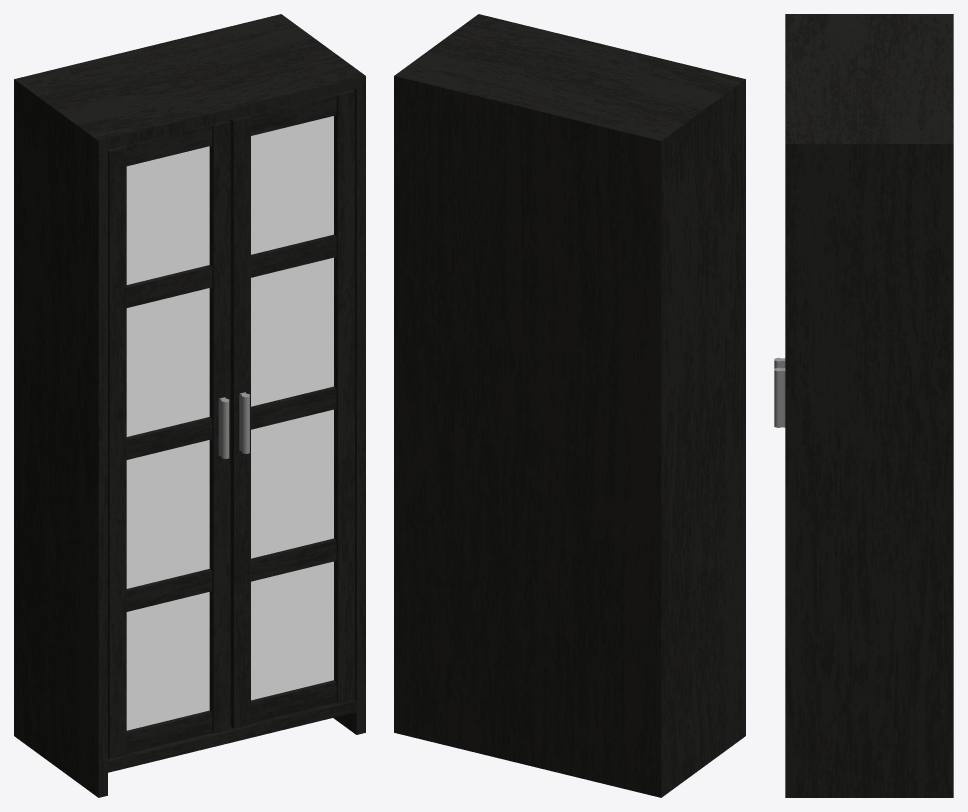
Rendered from cupboard_020.fbx.
3 views of the same model, side by side, from view 1: azimuth 30°, elevation 25°; view 2: azimuth 150°, elevation 25°; view 3: azimuth 270°, elevation 25° (orthographic).
Parts seen in each view (by area): view 1: cupboard_020; view 2: cupboard_020; view 3: cupboard_020.
Boxes of the visible parts, box(x1,y1,x2,y2) form: cupboard_020: box(14, 14, 365, 797); cupboard_020: box(394, 14, 745, 797); cupboard_020: box(774, 14, 953, 797).
Bounding box in the file's own units: 123 × 72.11 × 290.
